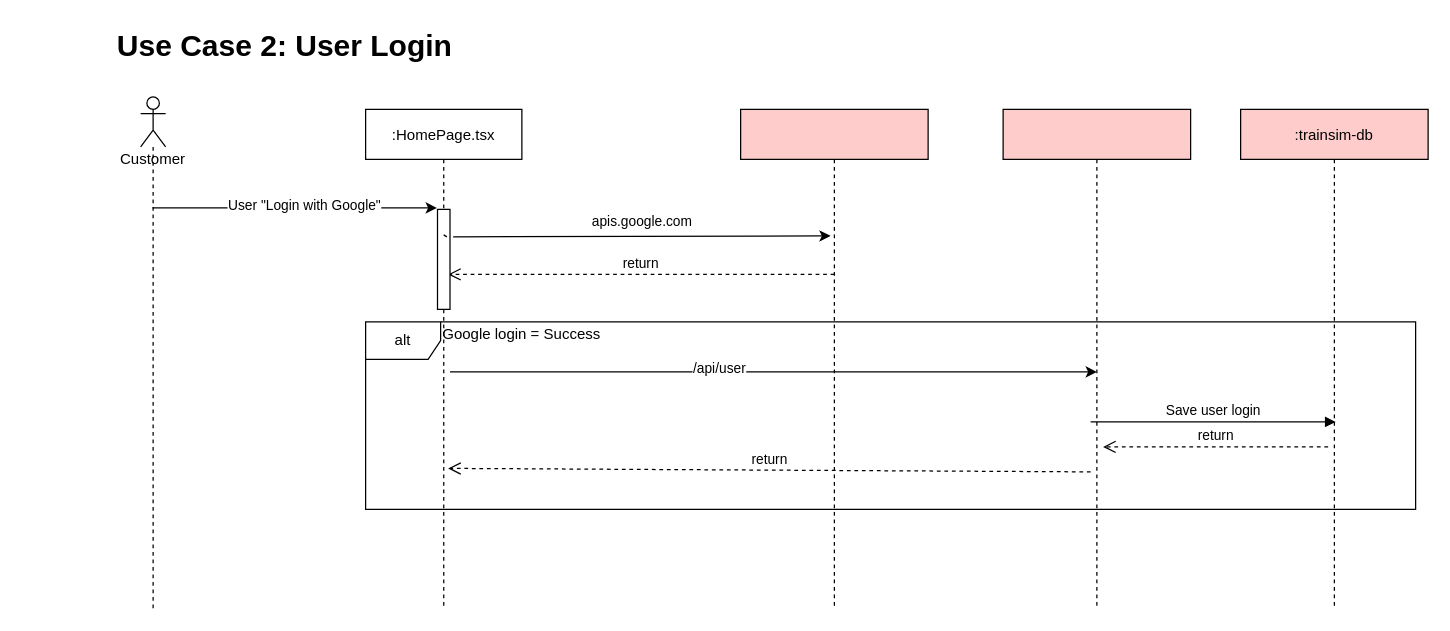
This 1450x631 diagram has some shape labels left out. Each missing label, with the box of its shape:
:Google-auth2-api: (739, 108, 928, 609)
:trainsim-users-ms: (1002, 108, 1191, 609)
